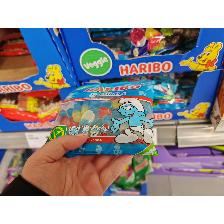Suessigkeit: (36, 79, 160, 159)
